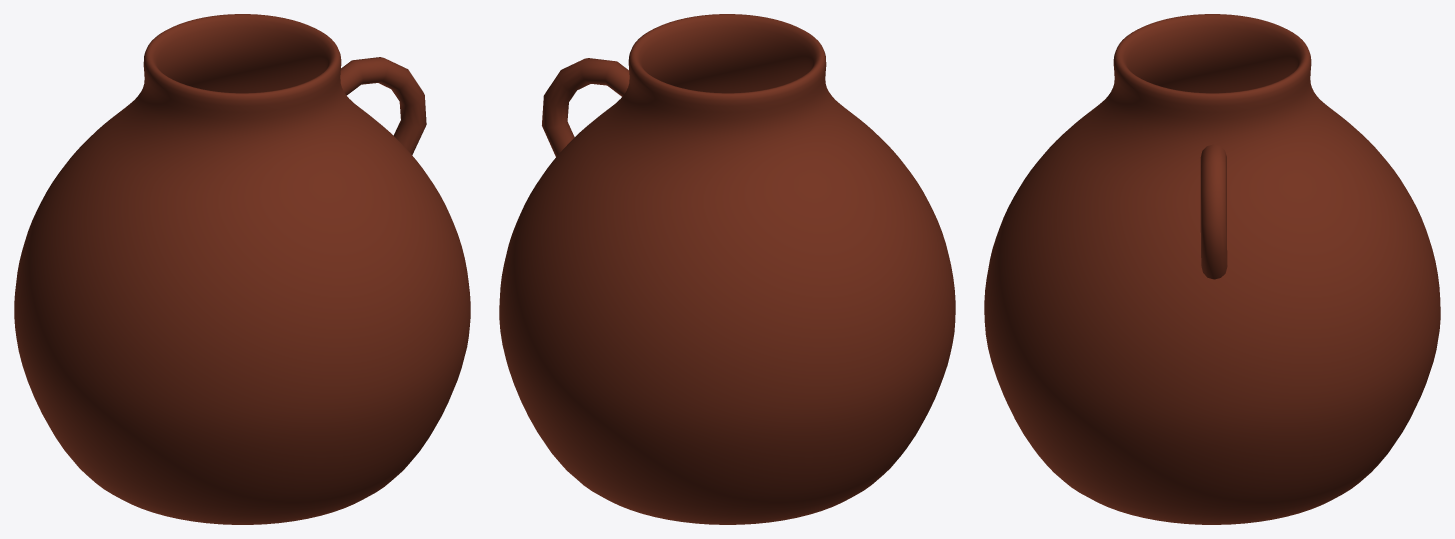
File: wine jar.fbx
3 renders of one model, left to right at view 1: azimuth 30°, elevation 25°; view 2: azimuth 150°, elevation 25°; view 3: azimuth 270°, elevation 25°, orthographic.
Visible parts, largest first — view 1: wine jar; view 2: wine jar; view 3: wine jar.
Boxes of the visible parts, x1,y1,x2,y2 form: wine jar: (14, 14, 470, 524); wine jar: (499, 14, 955, 524); wine jar: (984, 14, 1440, 524).
Bounding box in the file's own units: 39.16 × 39.61 × 39.16.
